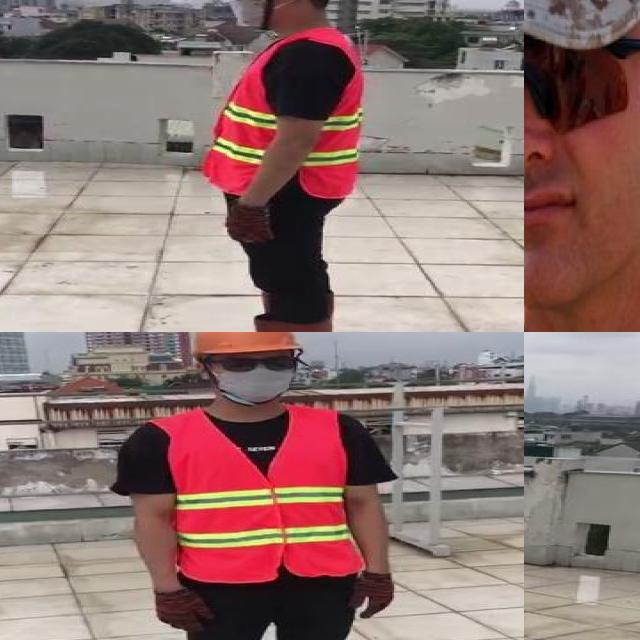face_mask: (210, 350, 300, 404), (221, 0, 282, 29)
face_nomask: (524, 32, 640, 249)
glasses: (524, 11, 640, 151), (212, 348, 310, 381)
hand_glove: (158, 588, 212, 633), (220, 205, 271, 247), (349, 572, 394, 617)
head_helmet: (184, 332, 302, 359)
person: (127, 332, 401, 640), (171, 0, 381, 332), (524, 0, 640, 332)
vest: (163, 408, 362, 583), (202, 25, 360, 197)
